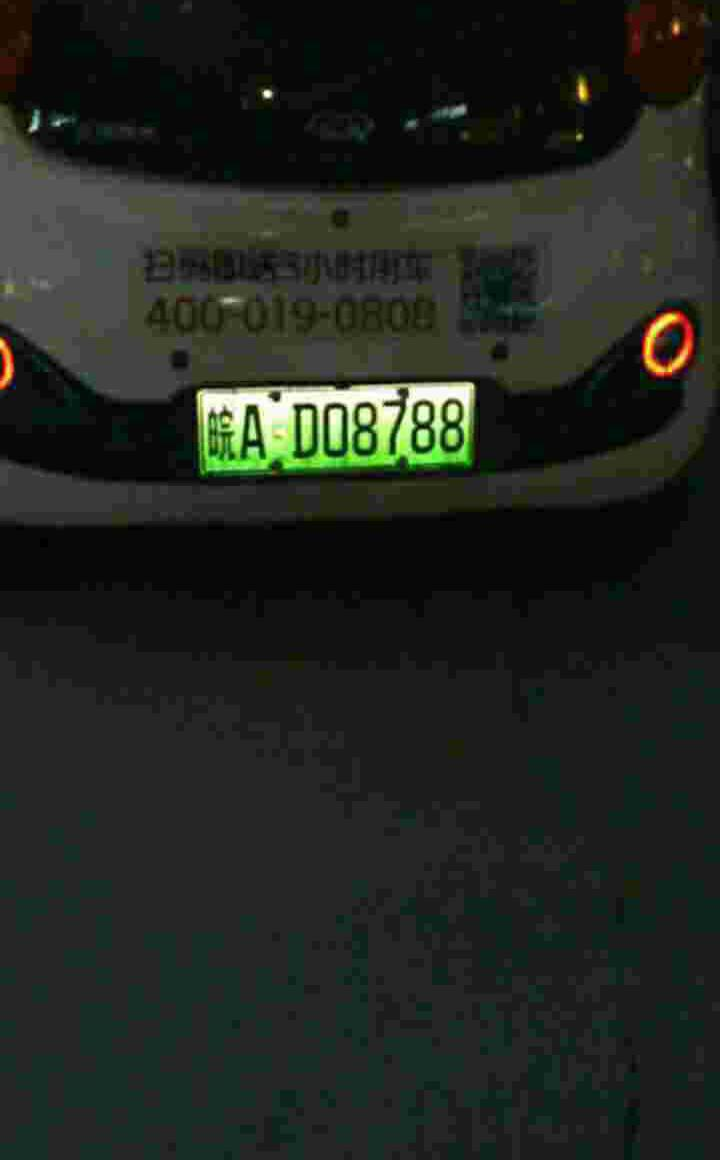car_id: (198, 381, 472, 470)
